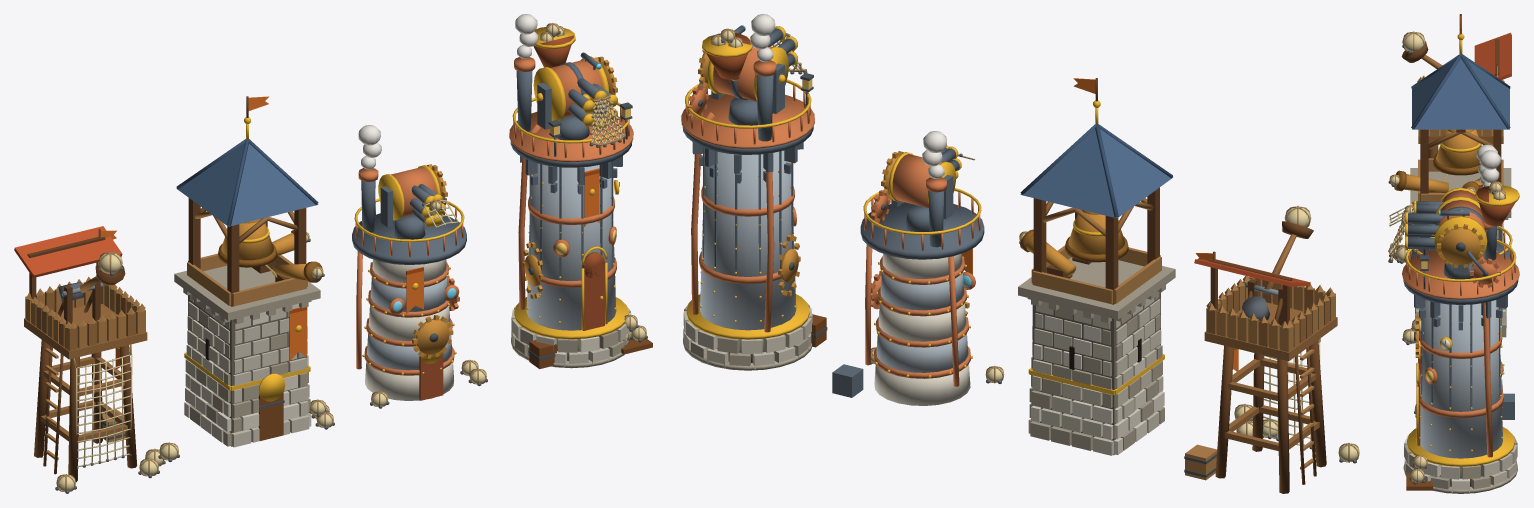
Rendered from tour-filet-pistes.glb.
3 views of the same model, side by side, from view 1: azimuth 30°, elevation 25°; view 2: azimuth 150°, elevation 25°; view 3: azimuth 270°, elevation 25° (orthographic). The views are drawn at different scales.
Visible parts, largest first — view 1: fut.005, toit, plateforme.002, plateforme.001, auvent, plateforme_bord, plateforme, fut, noyau, socle_or, fut.001, fut.002 (+26 smaller); view 2: fut.005, toit, plateforme.002, plateforme.001, plateforme_bord, fut, fut.001, noyau, fut.002, fut.003, socle_or, plateforme (+27 smaller); view 3: fut.005, toit, plateforme_bord, socle_or, auvent, cloche, rouage.004, tuyau.003, plateforme.001, tambour_bord.003, tremie, plateforme.003 (+51 smaller).
Part boxes in pixels (x1,y1,x2,y2): fut.005: (526,163,616,330); toit: (176,143,318,226); plateforme.002: (352,213,466,264); plateforme.001: (174,265,320,320); auvent: (14,226,122,277); plateforme_bord: (509,112,633,161); plateforme: (24,304,147,359); fut: (365,362,454,400); noyau: (188,295,306,446); socle_or: (514,297,628,339); fut.001: (366,333,452,370); fut.002: (368,305,450,341); fut.005: (700,150,796,330); toit: (1020,129,1172,218); plateforme.002: (860,202,984,259); plateforme.001: (1018,257,1175,319); plateforme_bord: (681,94,814,148); fut: (874,364,970,405); fut.001: (876,333,968,372); noyau: (1032,292,1160,455); fut.002: (878,303,966,341); fut.003: (880,272,964,310); socle_or: (686,294,809,339); plateforme: (1204,302,1337,361); fut.005: (1420,300,1502,458); toit: (1412,58,1509,129); plateforme_bord: (1402,250,1519,299); socle_or: (1407,427,1514,466); auvent: (1474,32,1511,80); cloche: (1436,129,1481,168); rouage.004: (1441,227,1480,264); tuyau.003: (1478,282,1492,457); plateforme.001: (1410,168,1511,217); tambour_bord.003: (1434,216,1487,264); tremie: (1476,186,1515,226); plateforme.003: (1403,280,1518,304).
Bounding box in the file's own units: 11.02 × 5.75 × 2.23.
